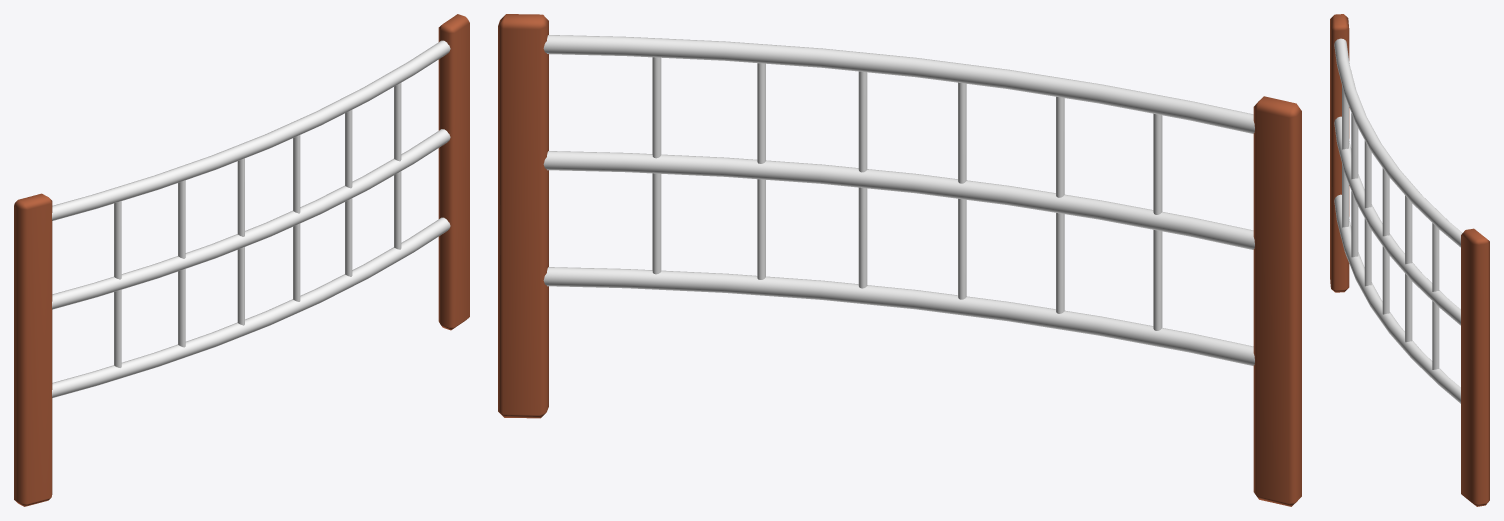
3 renders of one model, left to right at view 1: azimuth 30°, elevation 25°; view 2: azimuth 150°, elevation 25°; view 3: azimuth 270°, elevation 25°, orthographic. The views are drawn at different scales.
Parts seen in each view (by area): view 1: fileler3; view 2: fileler3; view 3: fileler3.
Boxes of the visible parts, box(x1,y1,x2,y2) form: fileler3: box(14, 14, 469, 506); fileler3: box(498, 14, 1301, 506); fileler3: box(1330, 14, 1489, 506).
Size of the model in its own units: 227 by 124 by 66.98.
